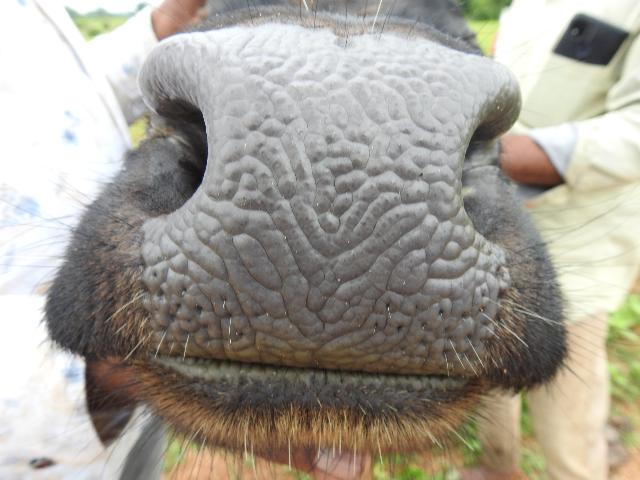Muzzle: (178, 42, 468, 370)
